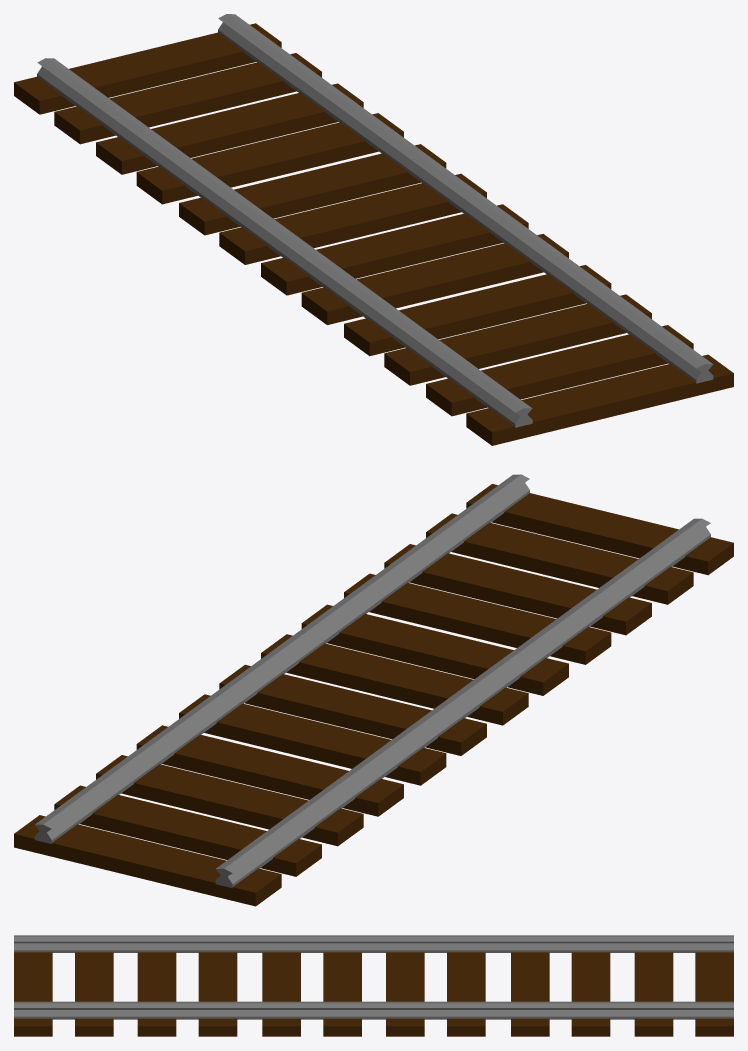
Rendered from RAILROADTRACKS_V1.fbx.
The picture shows the model from 3 angles, top to bottom: view 1: azimuth 30°, elevation 25°; view 2: azimuth 150°, elevation 25°; view 3: azimuth 270°, elevation 25°; orthographic projection. The views are drawn at different scales.
Parts seen in each view (by area): view 1: Cube.012, Cube.013, Cube.008, Cube.004, Cube.006, Cube, Cube.002, Cube.010, Cube.005, Cube.007, Cube.009, Cube.001 (+2 smaller); view 2: Cube.013, Cube.012, Cube.007, Cube.001, Cube.003, Cube.009, Cube.005, Cube.011, Cube.010, Cube.002, Cube.006, Cube.008 (+2 smaller); view 3: Cube.012, Cube.013, Cube.005, Cube.006, Cube.010, Cube.011, Cube, Cube.001, Cube.002, Cube.003, Cube.004, Cube.007 (+2 smaller).
Boxes of the visible parts, x1,y1,x2,y2 form: Cube.012: (218,14,713,383); Cube.013: (37,58,532,427); Cube.008: (466,354,733,445); Cube.004: (136,113,403,204); Cube.006: (54,53,321,144); Cube: (301,234,568,324); Cube.002: (219,173,486,264); Cube.010: (384,294,651,385); Cube.005: (96,83,363,174); Cube.007: (14,23,281,114); Cube.009: (426,325,693,416); Cube.001: (261,204,528,295); Cube.013: (215,518,710,888); Cube.012: (34,474,529,843); Cube.007: (14,815,281,906); Cube.001: (261,634,528,725); Cube.003: (179,694,446,785); Cube.009: (426,513,693,604); Cube.005: (96,755,363,846); Cube.011: (344,573,611,664); Cube.010: (384,544,651,635); Cube.002: (219,664,486,755); Cube.006: (54,785,321,876); Cube.008: (466,484,733,575); Cube.012: (14,1001,733,1019); Cube.013: (14,935,733,952); Cube.005: (571,952,610,1036); Cube.006: (634,952,673,1036); Cube.010: (137,952,176,1036); Cube.011: (198,952,237,1036); Cube: (262,952,300,1036); Cube.001: (323,952,361,1036); Cube.002: (386,952,424,1036); Cube.003: (447,952,485,1036); Cube.004: (511,952,549,1036); Cube.007: (695,952,733,1036).
Size of the model in its own units: 339 by 40.26 by 1160.
